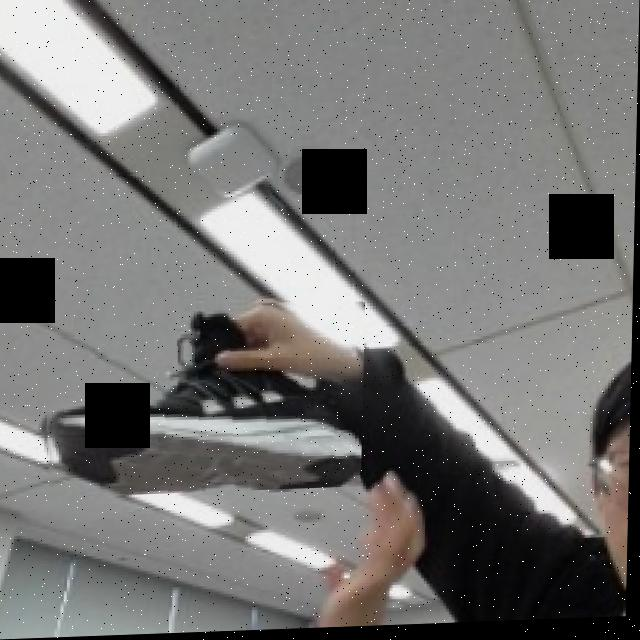shoe: (40, 295, 367, 499)
